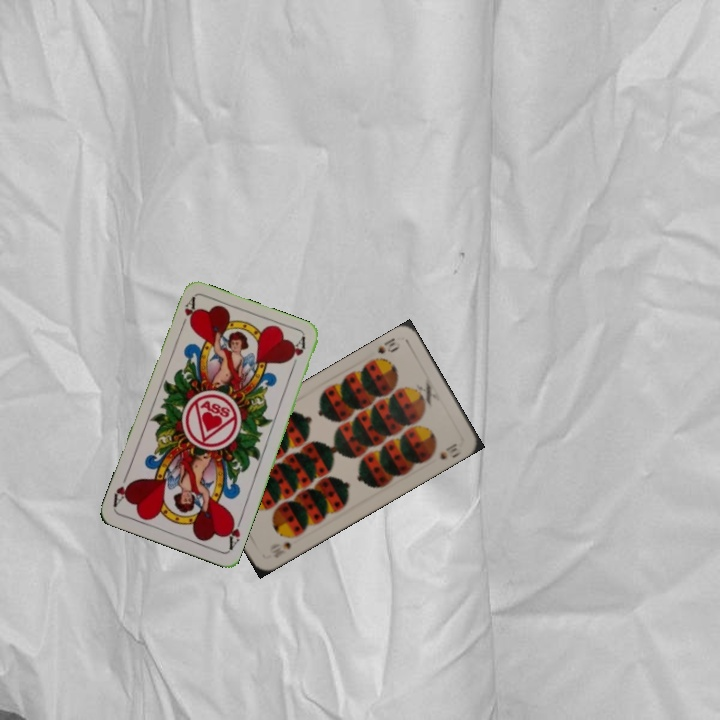HA: (222, 513, 245, 553), (176, 294, 198, 333)
S10: (374, 334, 403, 356), (269, 538, 294, 561)
